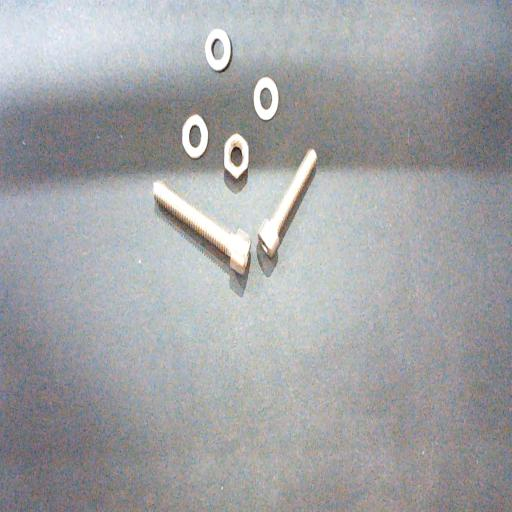nut: (224, 132, 248, 180)
screw: (153, 181, 251, 275), (258, 149, 317, 259)
washer: (182, 114, 207, 159), (204, 29, 230, 71), (253, 77, 278, 120)
